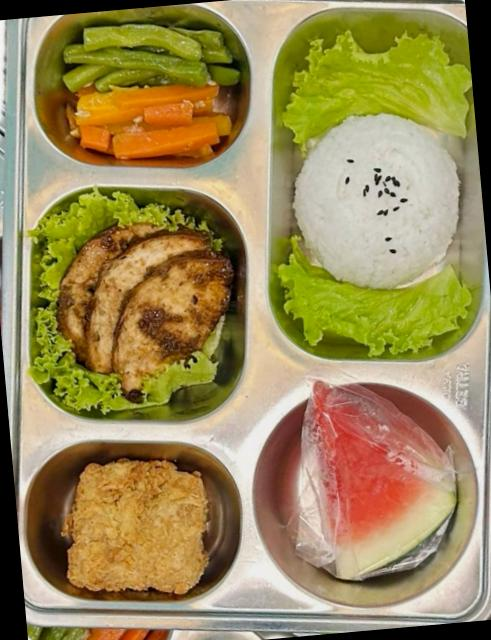ayam: (58, 224, 233, 402)
buah: (297, 381, 457, 580)
nasi: (293, 114, 459, 289)
sayur: (43, 10, 245, 165)
tahu: (62, 460, 208, 594)
